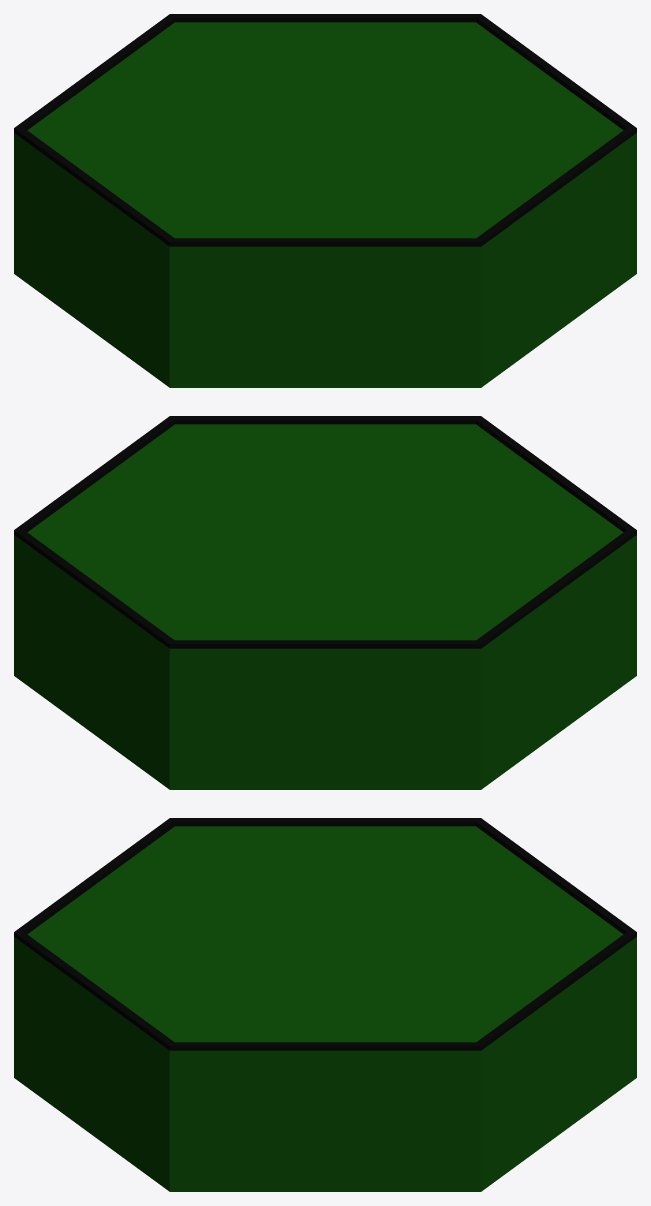
The model's file is hexagon_grass.obj.
3 views of the same model, one above another, from view 1: azimuth 30°, elevation 25°; view 2: azimuth 150°, elevation 25°; view 3: azimuth 270°, elevation 25° (orthographic).
Parts seen in each view (by area): view 1: Cylinder; view 2: Cylinder; view 3: Cylinder.
Part boxes in pixels (box(x1,y1,x2,y2)): Cylinder: box(14, 14, 636, 387); Cylinder: box(14, 416, 636, 789); Cylinder: box(14, 818, 636, 1191).
Bounding box in the file's own units: 1.73 × 0.5161 × 2.
